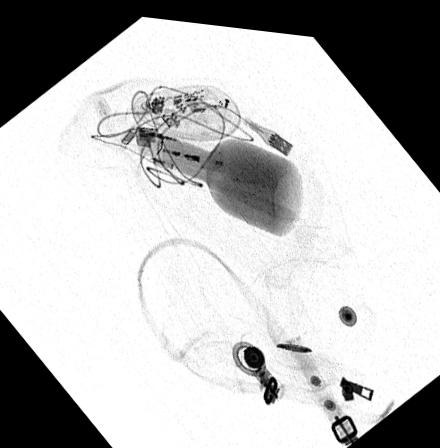Lighter: (133, 121, 206, 158)
